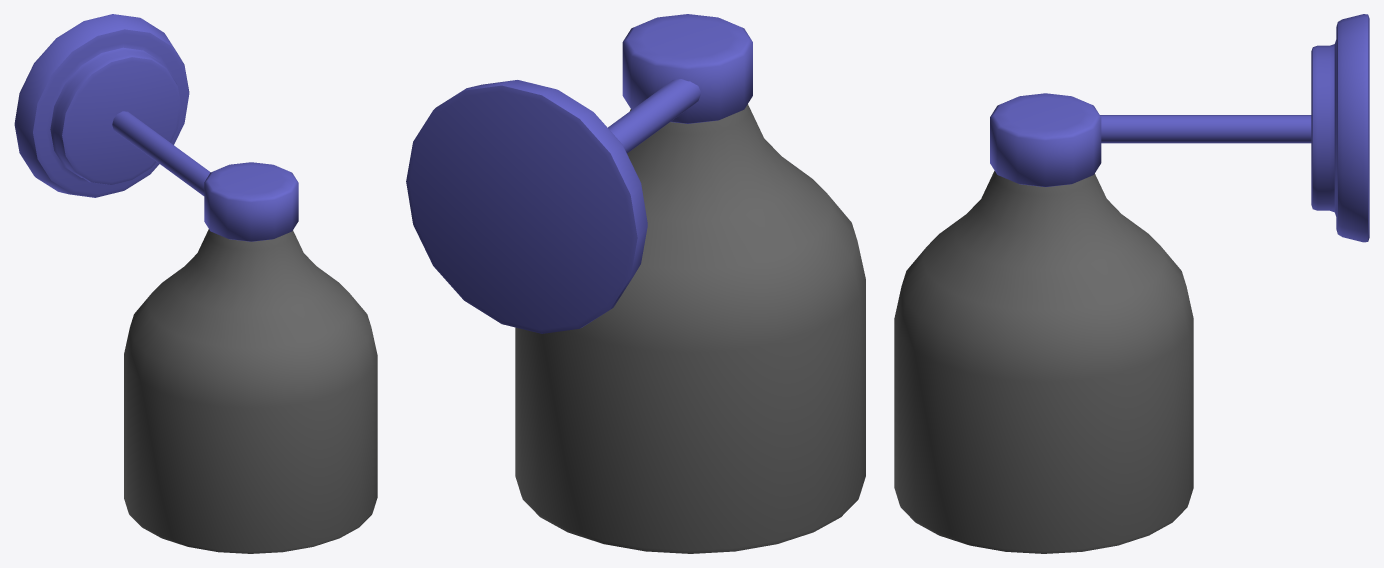
The model's file is SM_lamp_wall_03.fbx.
3 views of the same model, side by side, from view 1: azimuth 30°, elevation 25°; view 2: azimuth 150°, elevation 25°; view 3: azimuth 270°, elevation 25° (orthographic). The views are drawn at different scales.
Parts seen in each view (by area): view 1: Cylinder040; view 2: Cylinder040; view 3: Cylinder040.
Boxes of the visible parts, x1,y1,x2,y2 form: Cylinder040: [14, 14, 377, 553]; Cylinder040: [406, 14, 865, 553]; Cylinder040: [894, 14, 1369, 553].
Size of the model in its own units: 17.43 by 29.4 by 27.66.
